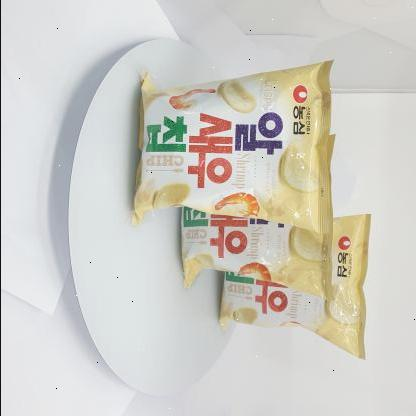Others: (123, 47, 377, 369)
